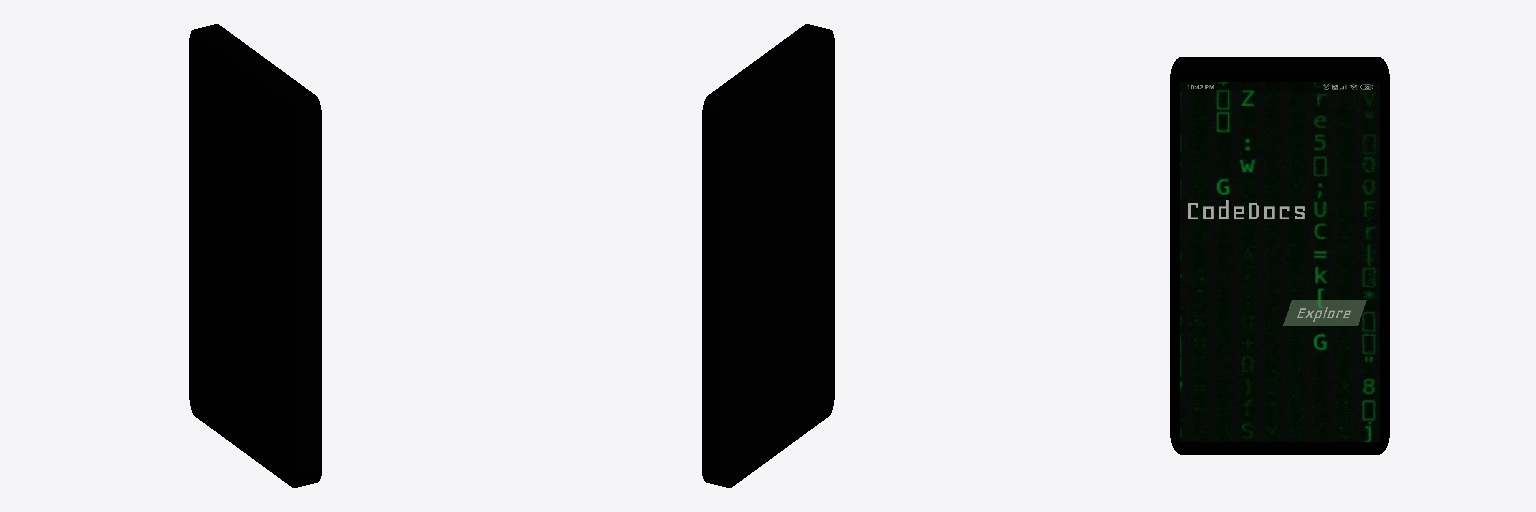
3 views of the same model, side by side, from view 1: azimuth 30°, elevation 25°; view 2: azimuth 150°, elevation 25°; view 3: azimuth 270°, elevation 25° (orthographic).
Visible parts, largest first — view 1: Cube; view 2: Cube; view 3: codedocs, Cube.
Boxes of the visible parts, x1=… form: Cube: x1=189, y1=24, x2=321, y2=487; Cube: x1=702, y1=24, x2=834, y2=487; codedocs: x1=1180, y1=82, x2=1379, y2=441; Cube: x1=1170, y1=57, x2=1389, y2=454.
Bounding box in the file's own units: 0.2048 × 3.1 × 1.59.
2 materials, 1 textured.